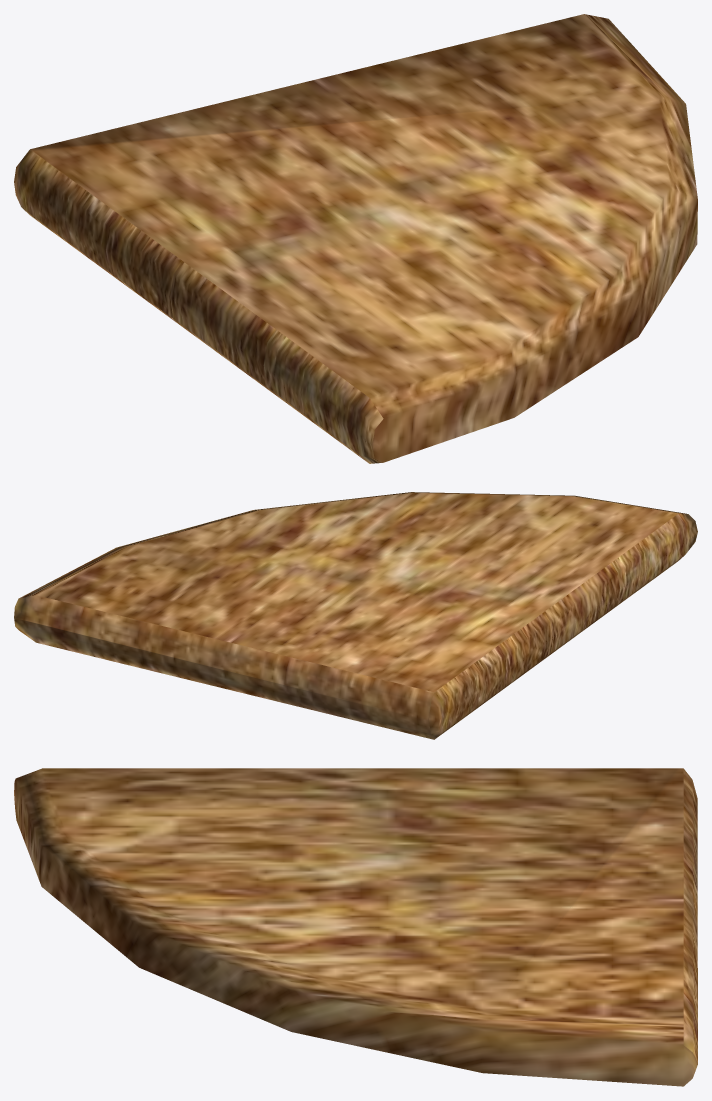
The model's file is Plat_roccia03.FBX.
3 renders of one model, top to bottom at view 1: azimuth 30°, elevation 25°; view 2: azimuth 150°, elevation 25°; view 3: azimuth 270°, elevation 25°, orthographic. The views are drawn at different scales.
Parts seen in each view (by area): view 1: Plat_03; view 2: Plat_03; view 3: Plat_03.
Boxes of the visible parts, box(x1,y1,x2,y2) form: Plat_03: box(14, 14, 697, 463); Plat_03: box(14, 492, 697, 739); Plat_03: box(14, 768, 697, 1086).
Size of the model in its own units: 377 by 40.32 by 400.
Materials: 1 (1 with a texture image).
